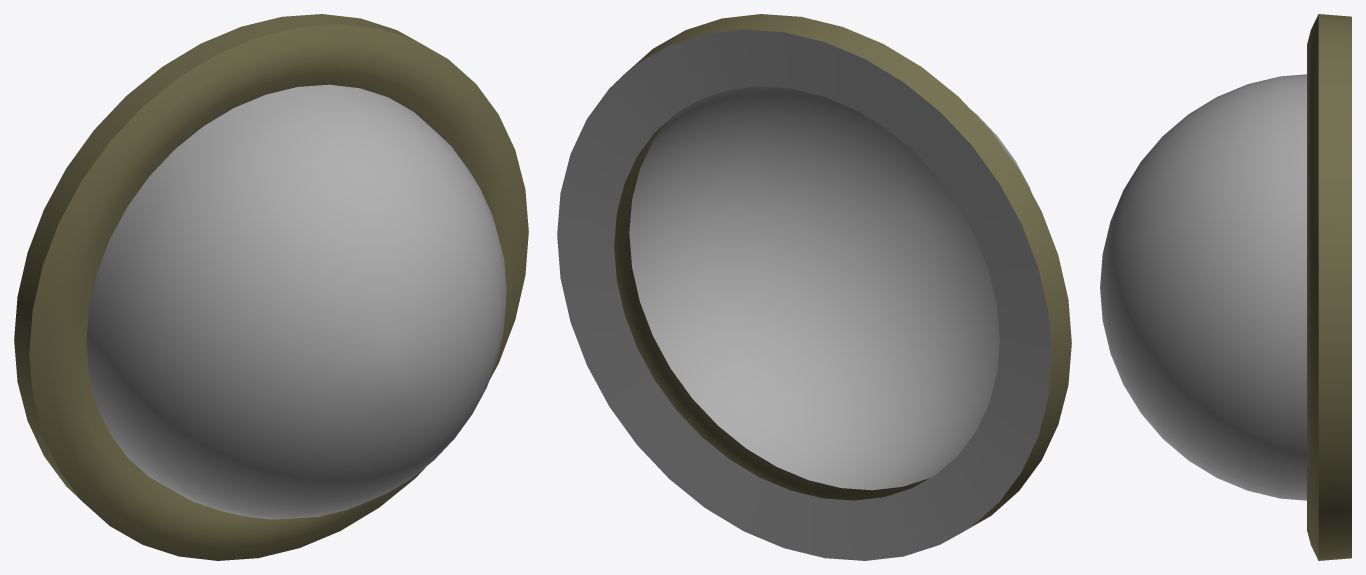
File: Obstacle_Ball.fbx
3 renders of one model, left to right at view 1: azimuth 30°, elevation 25°; view 2: azimuth 150°, elevation 25°; view 3: azimuth 270°, elevation 25°, orthographic. The views are drawn at different scales.
Parts seen in each view (by area): view 1: Obstacle_Ball; view 2: Obstacle_Ball; view 3: Obstacle_Ball.
Part boxes in pixels (bbox=[...]): Obstacle_Ball: bbox=[14, 14, 528, 560]; Obstacle_Ball: bbox=[557, 14, 1071, 560]; Obstacle_Ball: bbox=[1100, 14, 1351, 560].
Bounding box in the file's own units: 235 × 235 × 108.
